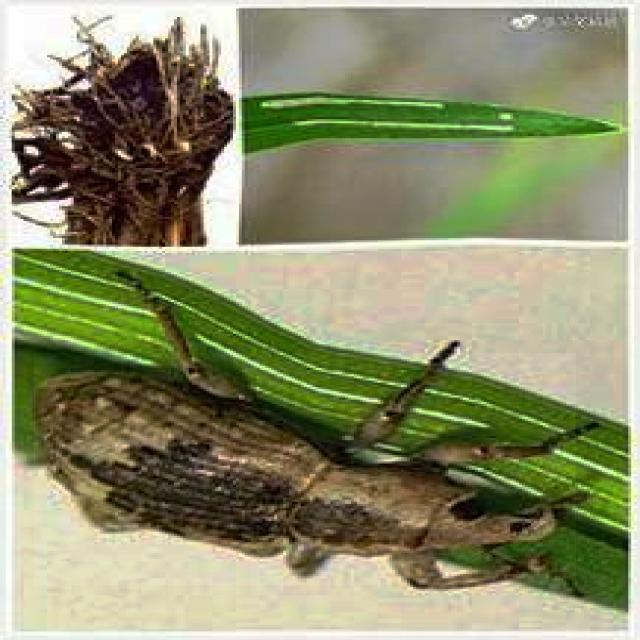rice-bug: (34, 353, 576, 585)
